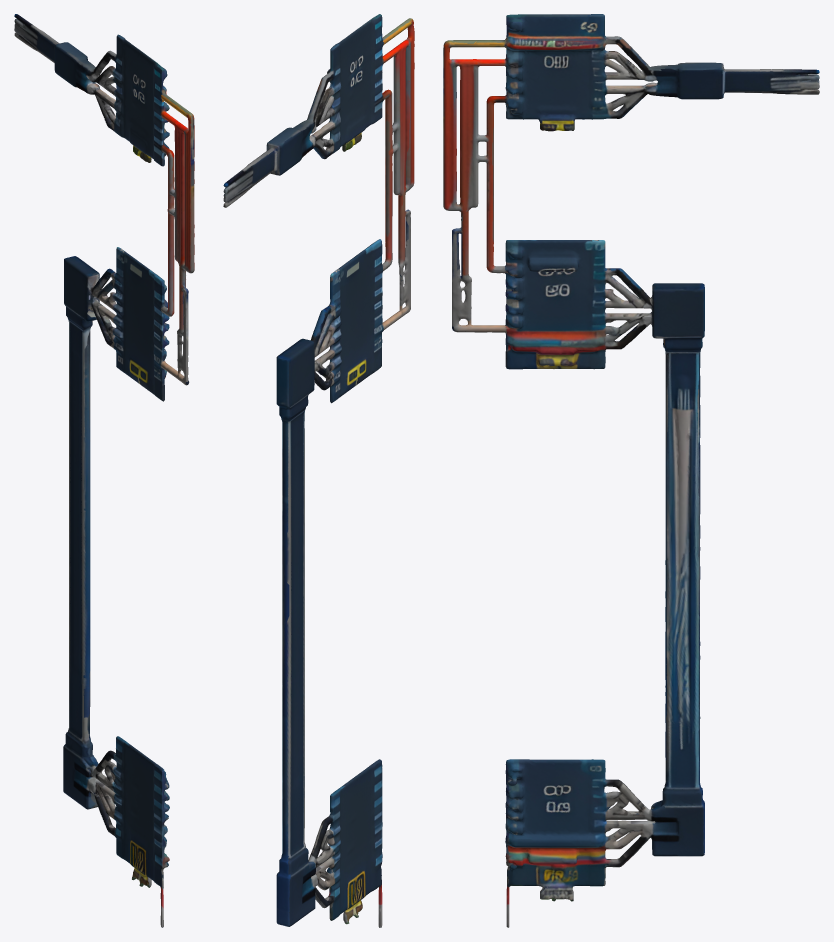
The model's file is fiber_cabinet.glb.
The picture shows the model from 3 angles, left to right: view 1: azimuth 30°, elevation 25°; view 2: azimuth 150°, elevation 25°; view 3: azimuth 270°, elevation 25°; orthographic projection. The views are drawn at different scales.
Parts seen in each view (by area): view 1: tripo_node_67db1a67-d741-4953-9cec-7cdc9fc690a4; view 2: tripo_node_67db1a67-d741-4953-9cec-7cdc9fc690a4; view 3: tripo_node_67db1a67-d741-4953-9cec-7cdc9fc690a4.
Boxes of the visible parts, left/top/right/bottom form: tripo_node_67db1a67-d741-4953-9cec-7cdc9fc690a4: left=14, top=14, right=194, bottom=927; tripo_node_67db1a67-d741-4953-9cec-7cdc9fc690a4: left=223, top=14, right=414, bottom=927; tripo_node_67db1a67-d741-4953-9cec-7cdc9fc690a4: left=443, top=14, right=819, bottom=927.
Bounding box in the file's own units: 0.022 × 1 × 0.3733.
Materials: 1 (1 with a texture image).
